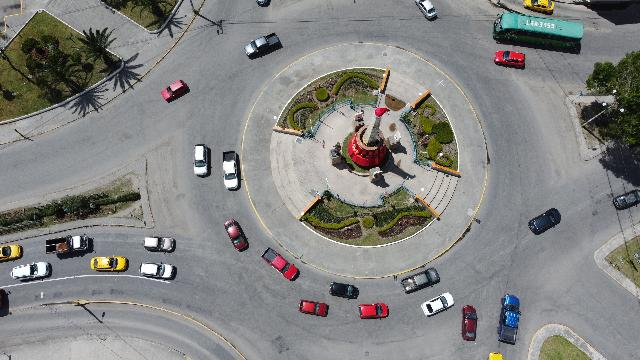Vehiculo: (260, 247, 300, 281), (497, 295, 521, 345), (401, 267, 439, 293), (244, 32, 280, 57), (528, 208, 560, 234), (422, 292, 454, 316), (225, 219, 248, 251), (11, 262, 51, 280), (222, 150, 240, 190), (140, 262, 174, 280), (91, 256, 129, 272), (494, 50, 526, 68), (162, 79, 188, 101), (461, 306, 477, 341), (612, 190, 640, 210), (329, 282, 358, 300), (192, 144, 208, 176), (299, 300, 329, 316), (359, 303, 389, 319), (144, 236, 174, 252), (415, 0, 437, 20), (524, 0, 554, 14), (1, 244, 23, 262), (488, 352, 502, 360)
